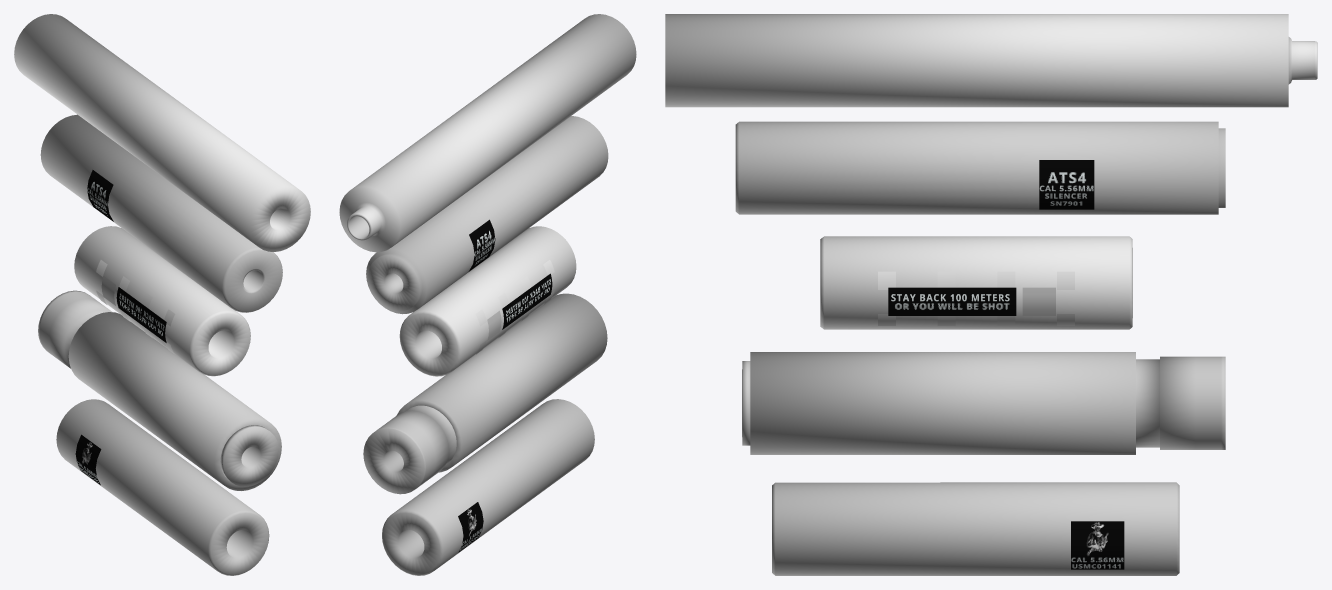
The model's file is ModelFsketchfab.fbx.
3 renders of one model, left to right at view 1: azimuth 30°, elevation 25°; view 2: azimuth 150°, elevation 25°; view 3: azimuth 270°, elevation 25°, orthographic. The views are drawn at different scales.
Visible parts, largest first — view 1: SR8_low, ATS4_low, MD3_low, ATS5_low, SB100_low, ATS5-2_low, SB1_Decal2, ATS4_Decal, MD3_Decal, INSTANT_011_fa7e991e-6772-4d5d-b2b3-e9c001a8be7e_projected; view 2: SR8_low, ATS4_low, MD3_low, ATS5_low, SB100_low, ATS5-2_low, SB1_Decal2, ATS4_Decal, MD3_Decal, INSTANT_011_fa7e991e-6772-4d5d-b2b3-e9c001a8be7e_projected; view 3: SR8_low, ATS4_low, ATS5_low, MD3_low, SB100_low, ATS5-2_low, SB1_Decal2, ATS4_Decal, MD3_Decal, INSTANT_011_fa7e991e-6772-4d5d-b2b3-e9c001a8be7e_projected.
Boxes of the visible parts, bbox=[...] form: SR8_low: bbox=[14, 14, 310, 251]; ATS4_low: bbox=[40, 114, 282, 312]; MD3_low: bbox=[56, 399, 269, 575]; ATS5_low: bbox=[68, 312, 281, 490]; SB100_low: bbox=[74, 226, 250, 376]; ATS5-2_low: bbox=[38, 290, 278, 486]; SB1_Decal2: bbox=[101, 276, 166, 342]; ATS4_Decal: bbox=[87, 170, 113, 221]; MD3_Decal: bbox=[75, 434, 101, 485]; INSTANT_011_fa7e991e-6772-4d5d-b2b3-e9c001a8be7e_projected: bbox=[96, 260, 175, 354]; SR8_low: bbox=[339, 14, 636, 252]; ATS4_low: bbox=[366, 116, 608, 314]; MD3_low: bbox=[382, 399, 594, 575]; ATS5_low: bbox=[396, 293, 607, 472]; SB100_low: bbox=[399, 226, 576, 376]; ATS5-2_low: bbox=[363, 405, 456, 494]; SB1_Decal2: bbox=[487, 273, 552, 340]; ATS4_Decal: bbox=[468, 219, 495, 271]; MD3_Decal: bbox=[458, 502, 483, 552]; INSTANT_011_fa7e991e-6772-4d5d-b2b3-e9c001a8be7e_projected: bbox=[475, 260, 554, 354]; SR8_low: bbox=[665, 14, 1317, 107]; ATS4_low: bbox=[735, 121, 1225, 214]; ATS5_low: bbox=[750, 352, 1135, 454]; MD3_low: bbox=[772, 482, 1179, 575]; SB100_low: bbox=[820, 236, 1132, 329]; ATS5-2_low: bbox=[742, 356, 1225, 449]; SB1_Decal2: bbox=[888, 287, 1055, 315]; ATS4_Decal: bbox=[1039, 160, 1094, 209]; MD3_Decal: bbox=[1071, 521, 1124, 569]; INSTANT_011_fa7e991e-6772-4d5d-b2b3-e9c001a8be7e_projected: bbox=[878, 271, 1074, 325].
Bounding box in the file's own units: 662 × 3918 × 4185.
